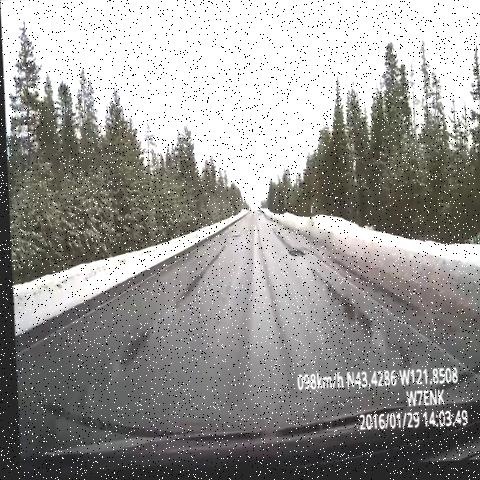pothole: (283, 237, 305, 275)
